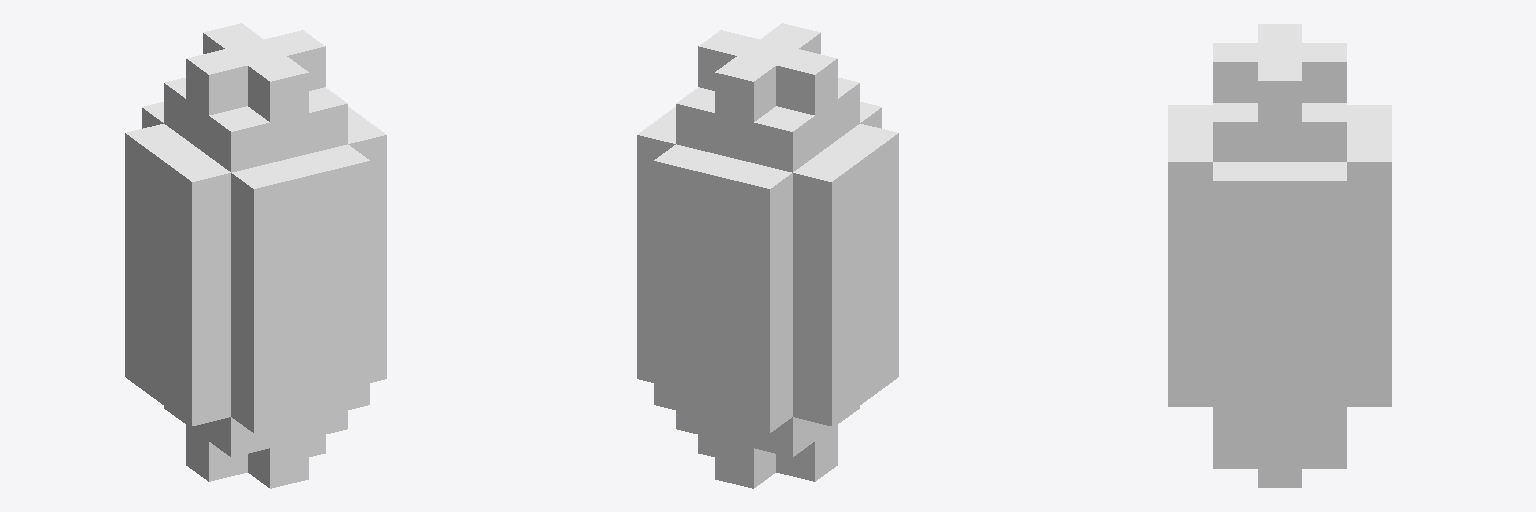
The model's file is StoreDecor_RedLantern.obj.
3 renders of one model, left to right at view 1: azimuth 30°, elevation 25°; view 2: azimuth 150°, elevation 25°; view 3: azimuth 270°, elevation 25°, orthographic.
Visible parts, largest first — view 1: StoreDecor_RedLantern; view 2: StoreDecor_RedLantern; view 3: StoreDecor_RedLantern.
Boxes of the visible parts, box(x1,y1,x2,y2) form: StoreDecor_RedLantern: box(125, 23, 386, 488); StoreDecor_RedLantern: box(637, 23, 898, 488); StoreDecor_RedLantern: box(1168, 24, 1391, 487).
Bounding box in the file's own units: 5 × 10 × 5.